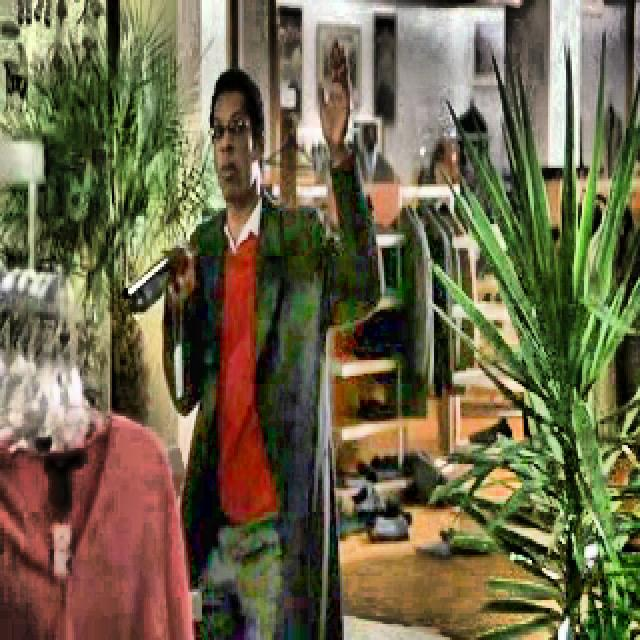L: (122, 40, 382, 634)
